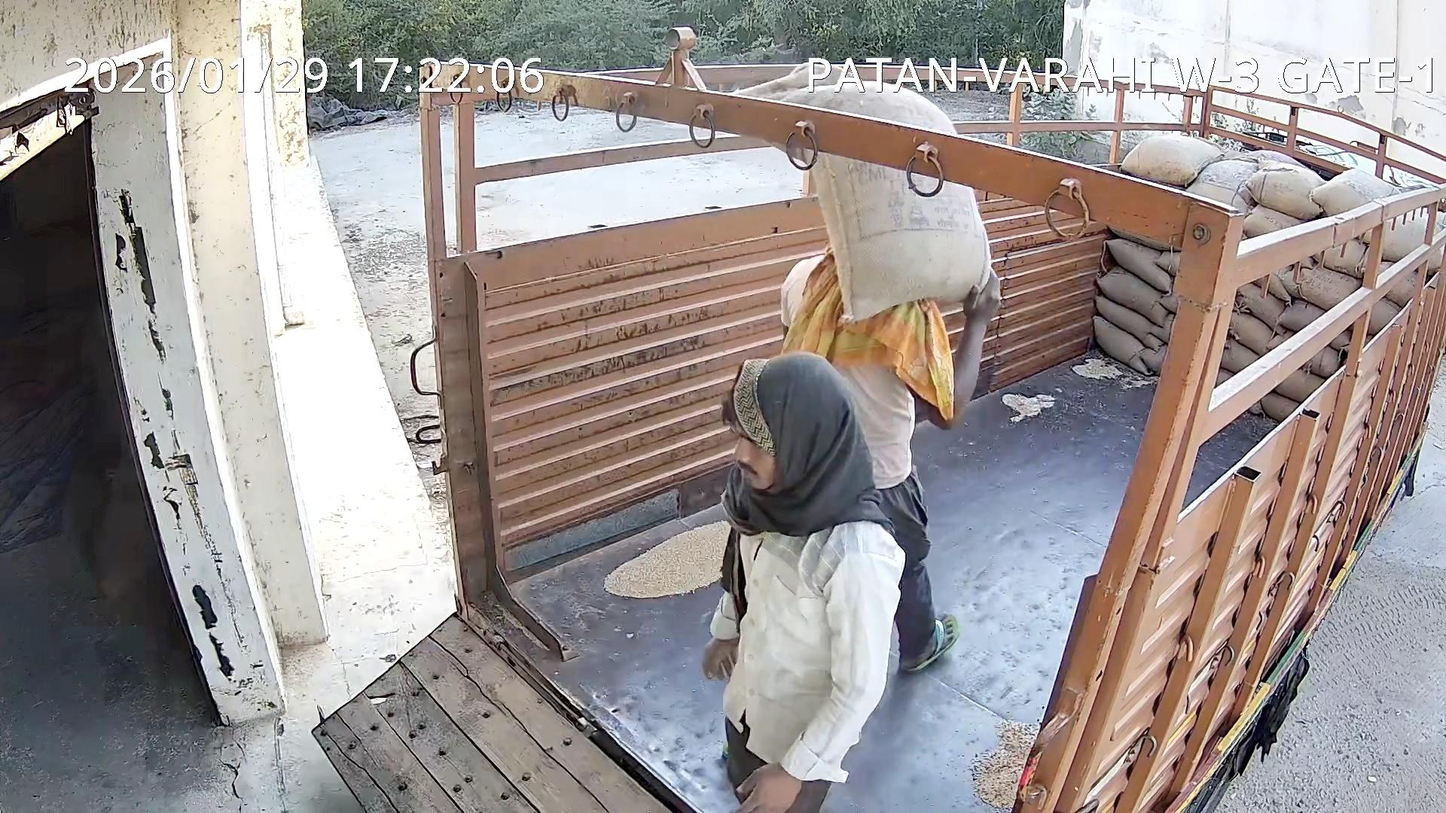Sack: (808, 136, 990, 319), (739, 68, 953, 134)
